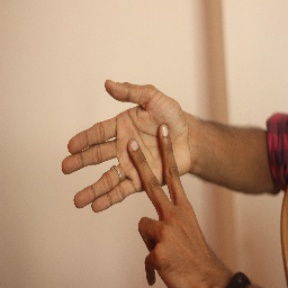N: (61, 77, 200, 259)
